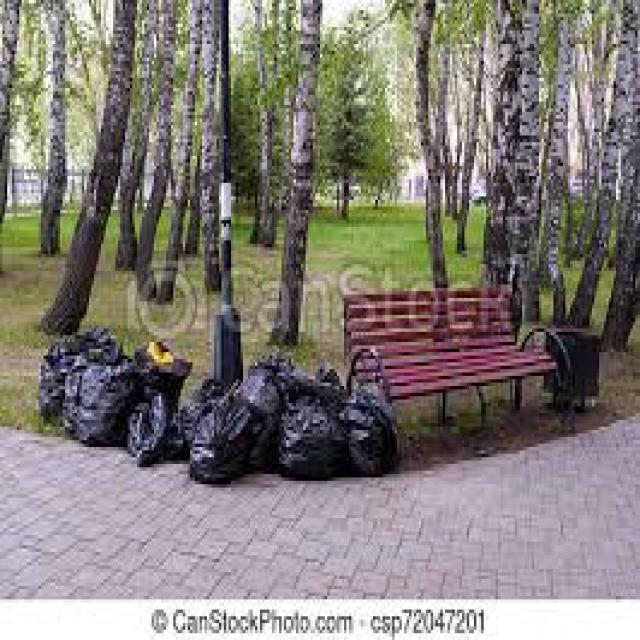plastic_bag: (288, 367, 348, 478), (196, 384, 251, 495), (81, 353, 141, 448), (249, 346, 292, 472), (348, 387, 401, 475), (30, 350, 75, 448), (133, 401, 184, 475)
